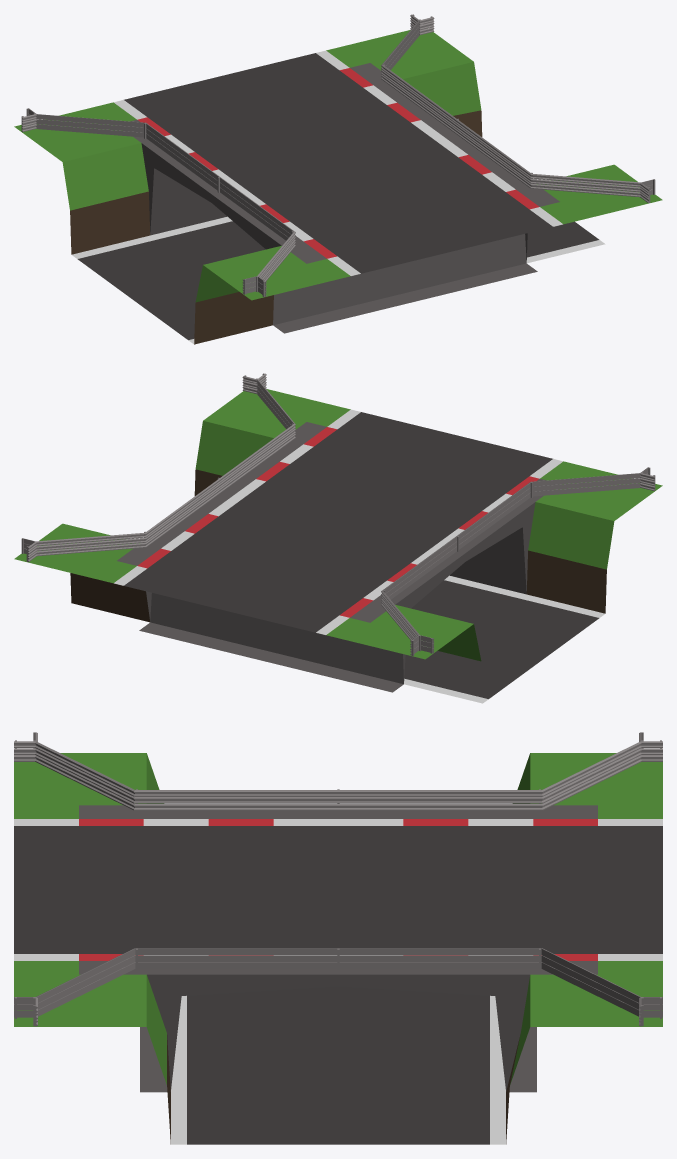
The model's file is tiles-nb_tile-race-track-bridge-nb.fbx.
The picture shows the model from 3 angles, top to bottom: view 1: azimuth 30°, elevation 25°; view 2: azimuth 150°, elevation 25°; view 3: azimuth 270°, elevation 25°; orthographic projection. The views are drawn at different scales.
Visible parts, largest first — view 1: tiles_nb_tile_race_track_bridge_nb; view 2: tiles_nb_tile_race_track_bridge_nb; view 3: tiles_nb_tile_race_track_bridge_nb.
Boxes of the visible parts, x1,y1,x2,y2 form: tiles_nb_tile_race_track_bridge_nb: (14, 14, 662, 344); tiles_nb_tile_race_track_bridge_nb: (14, 373, 662, 703); tiles_nb_tile_race_track_bridge_nb: (14, 732, 662, 1144).
Size of the model in its own units: 200 by 47.14 by 200.
